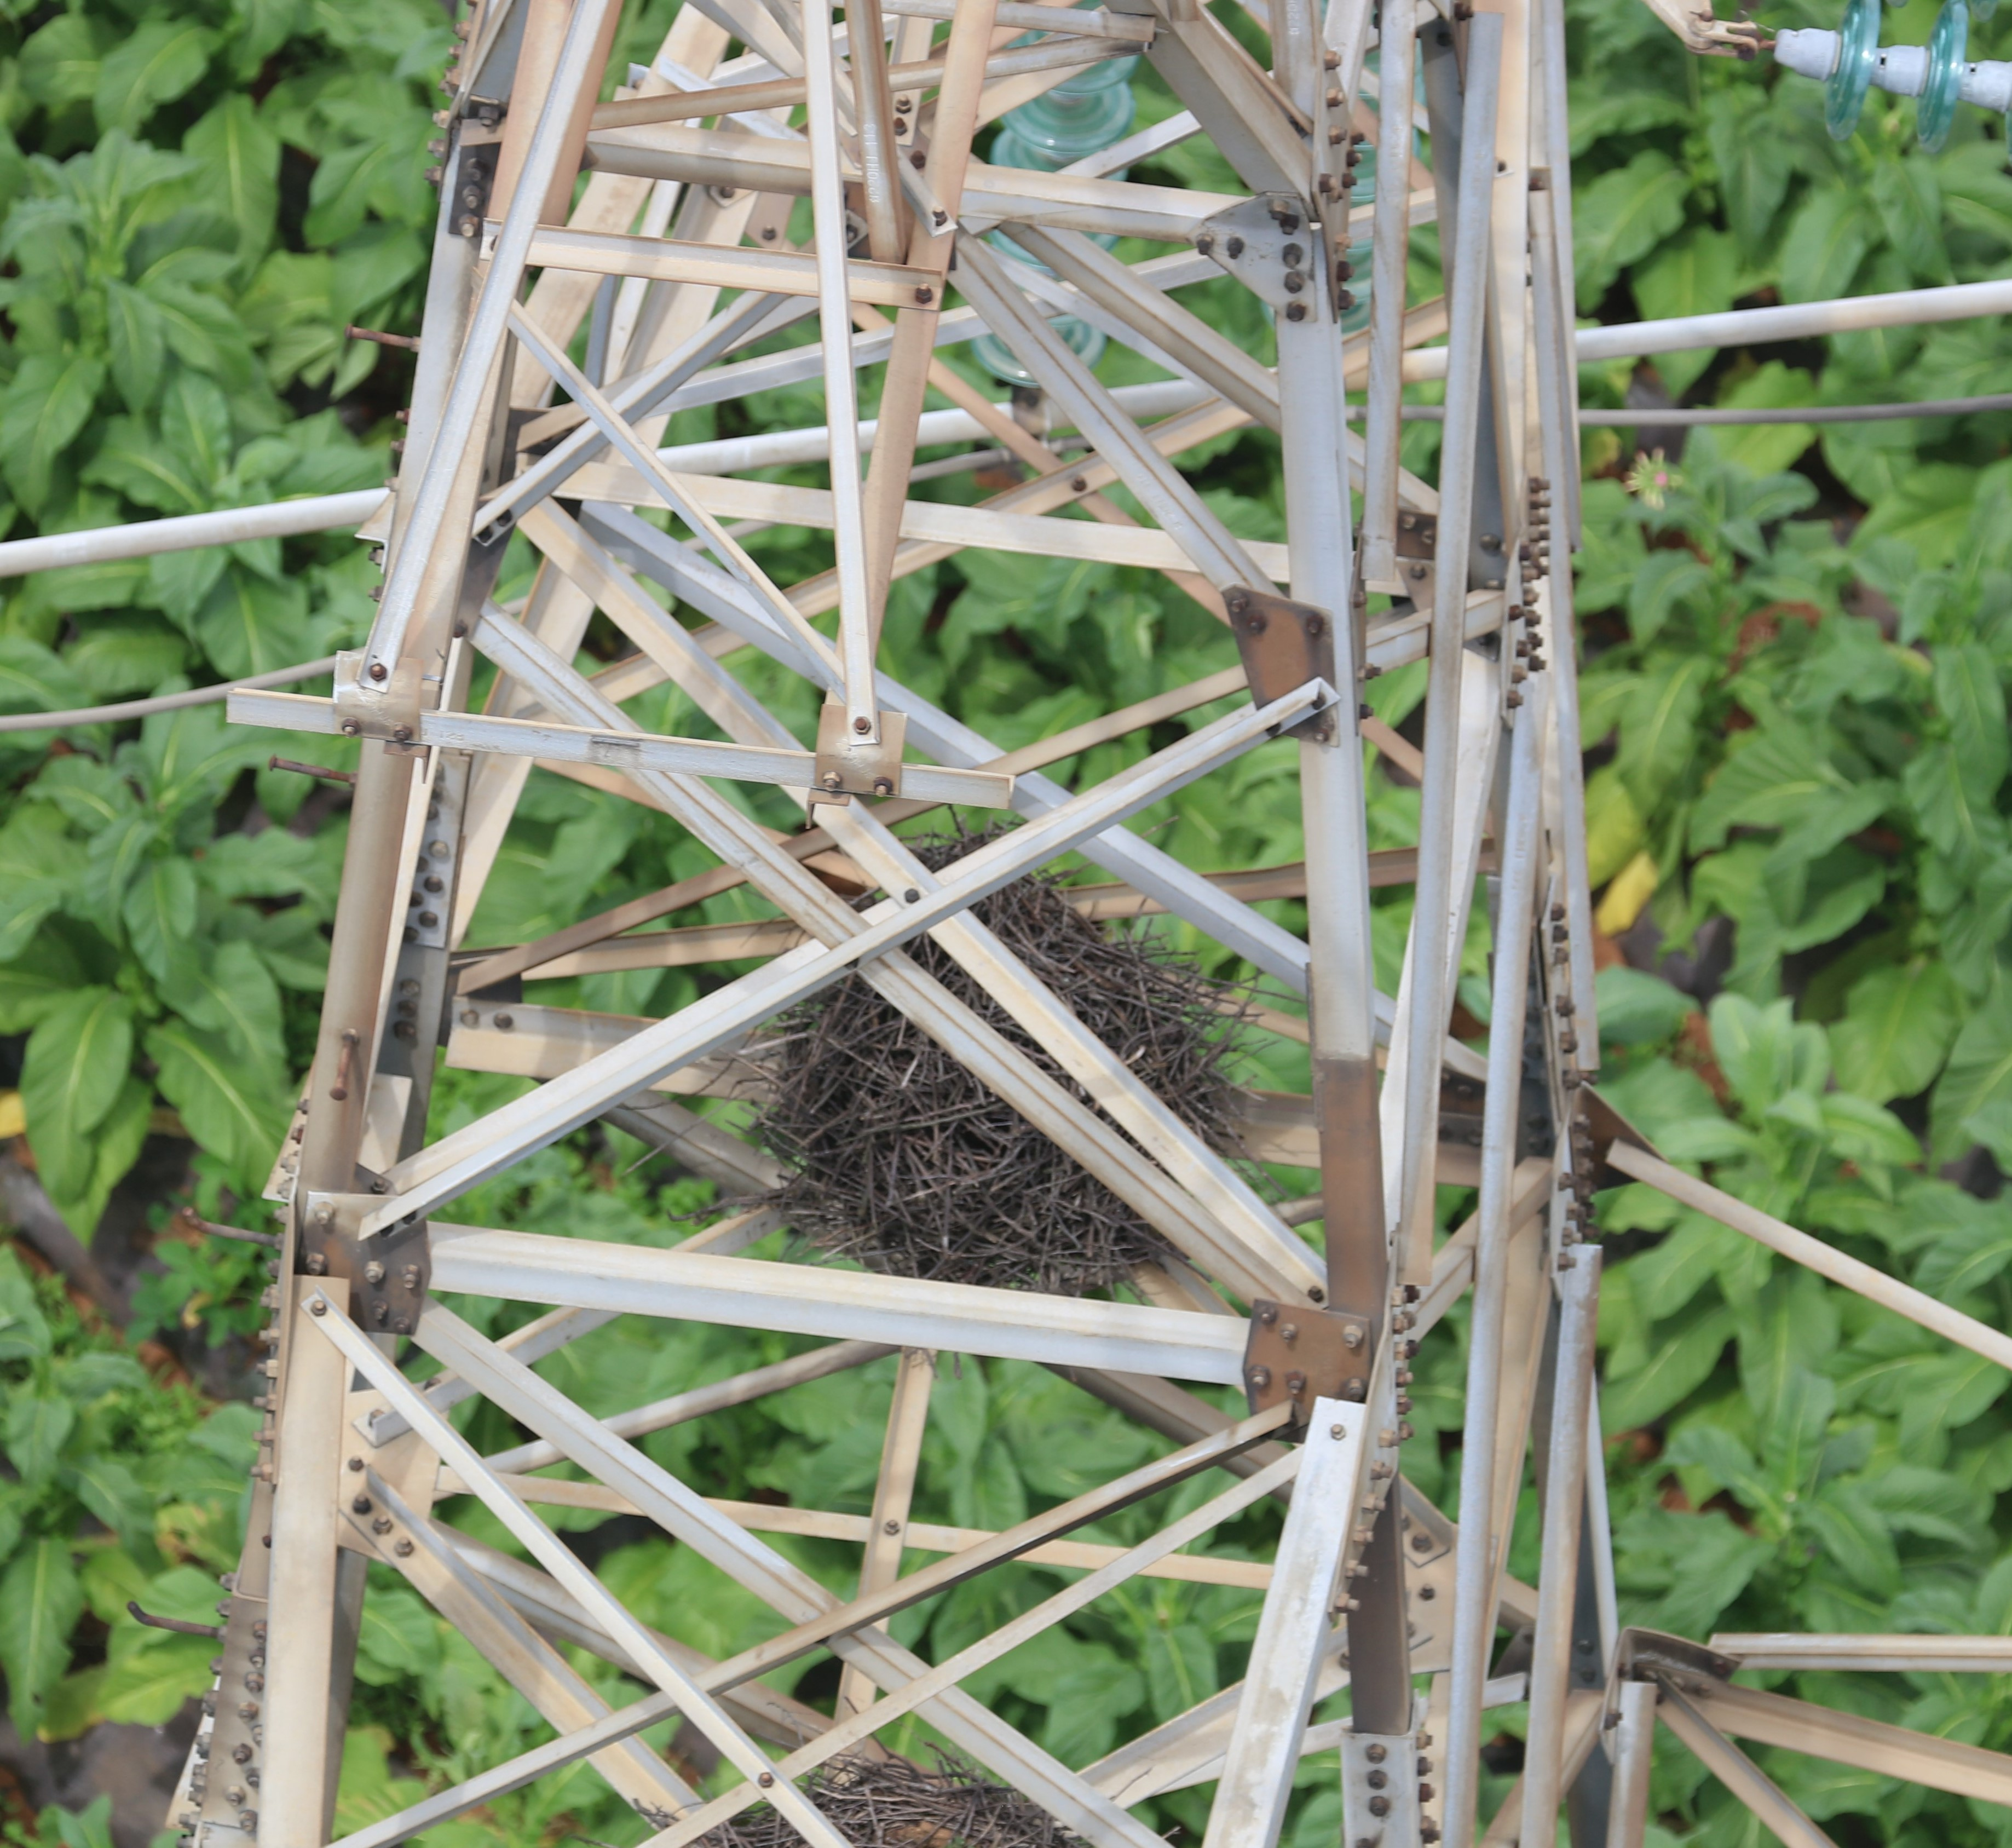niaowo: (696, 808, 1241, 1326)
